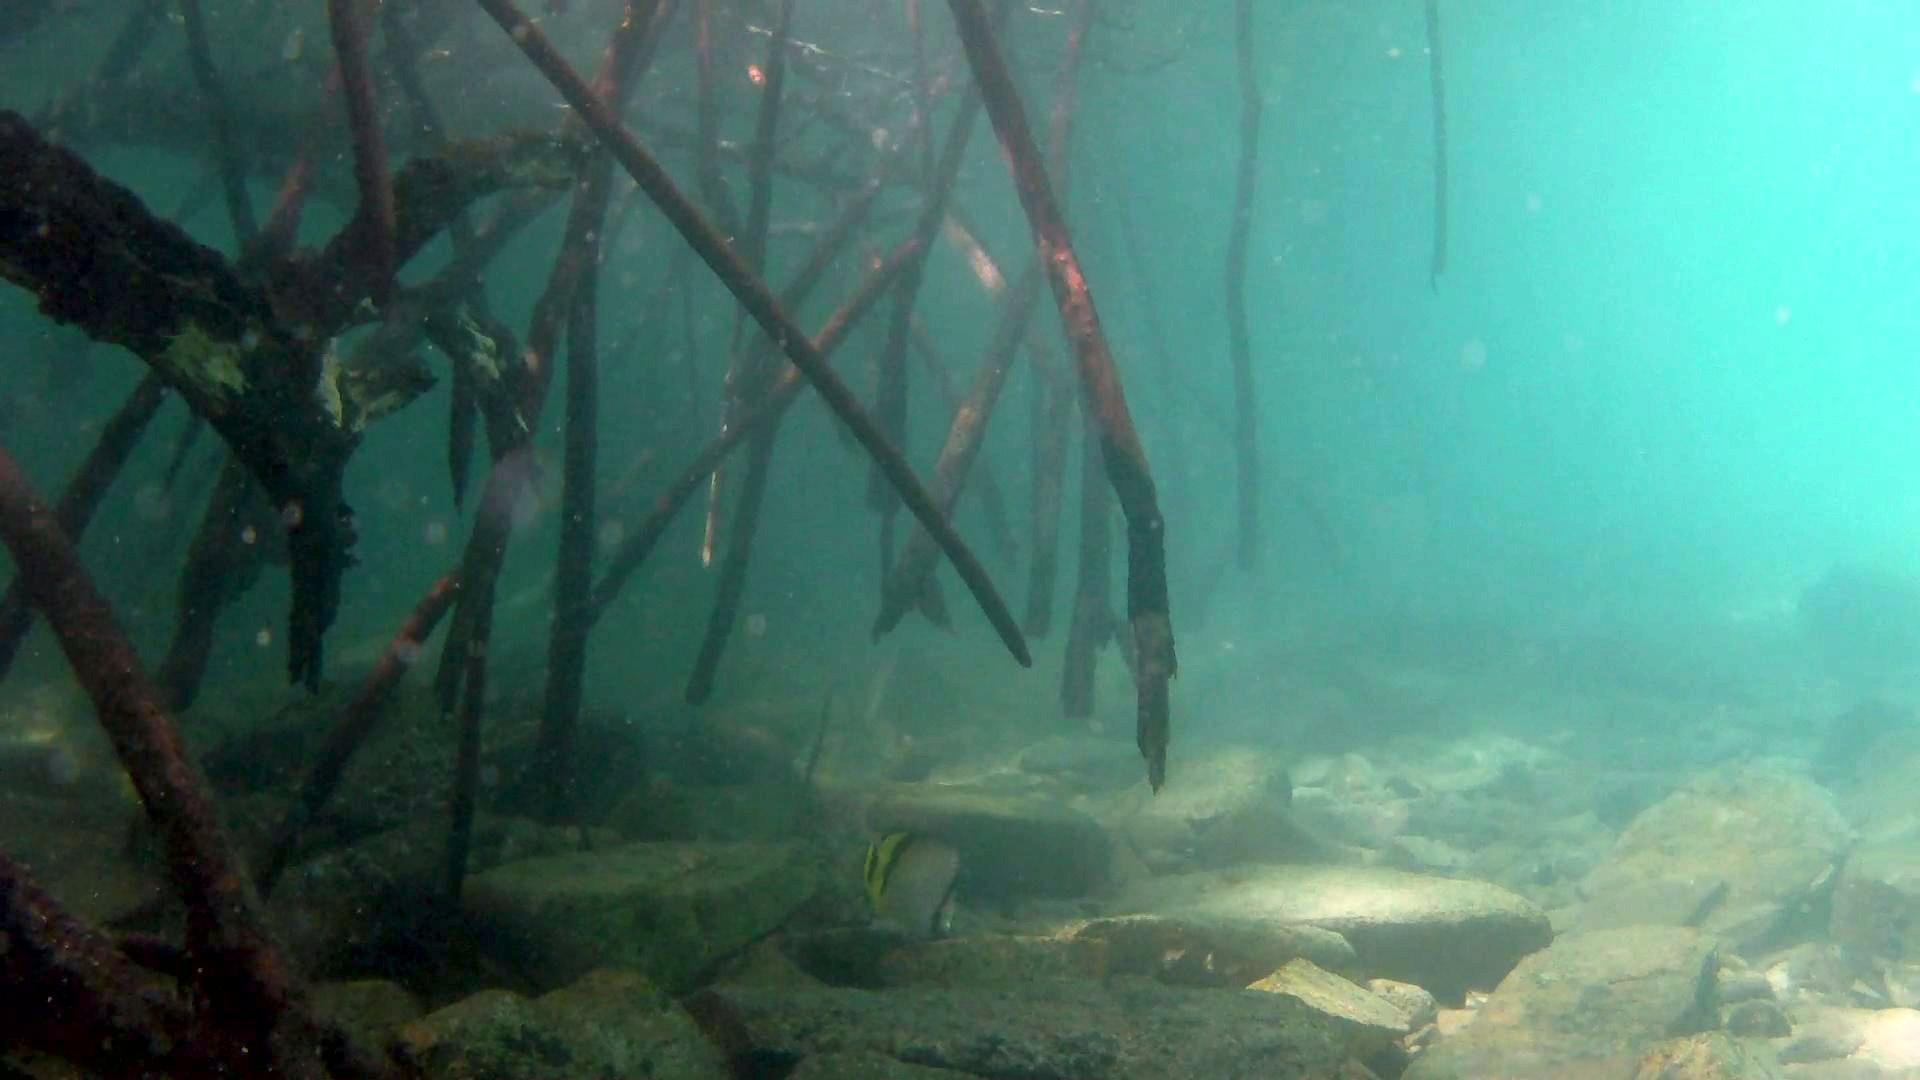chaetodon vagabundus: (857, 823, 966, 944)
